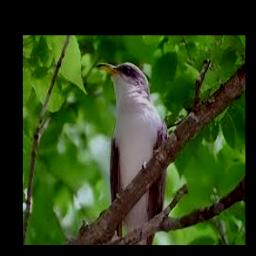Cuckoo: (98, 61, 169, 245)
